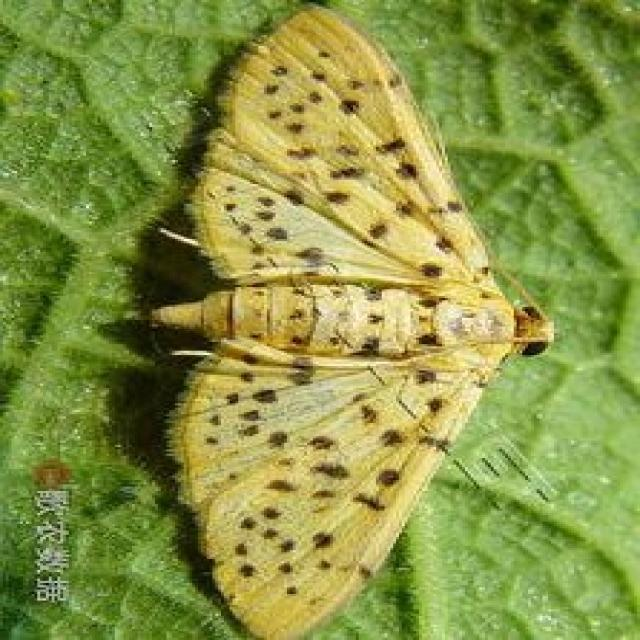peach borer: (140, 8, 562, 639)
